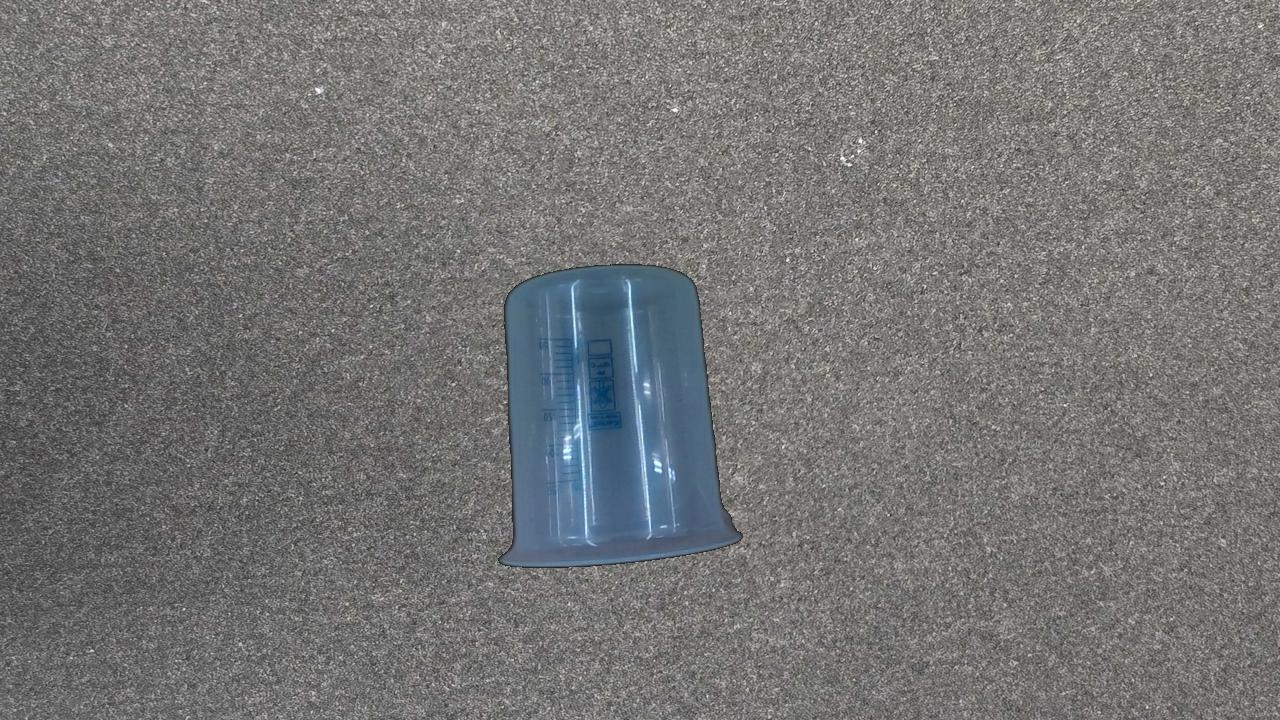cup: (501, 263, 744, 568)
